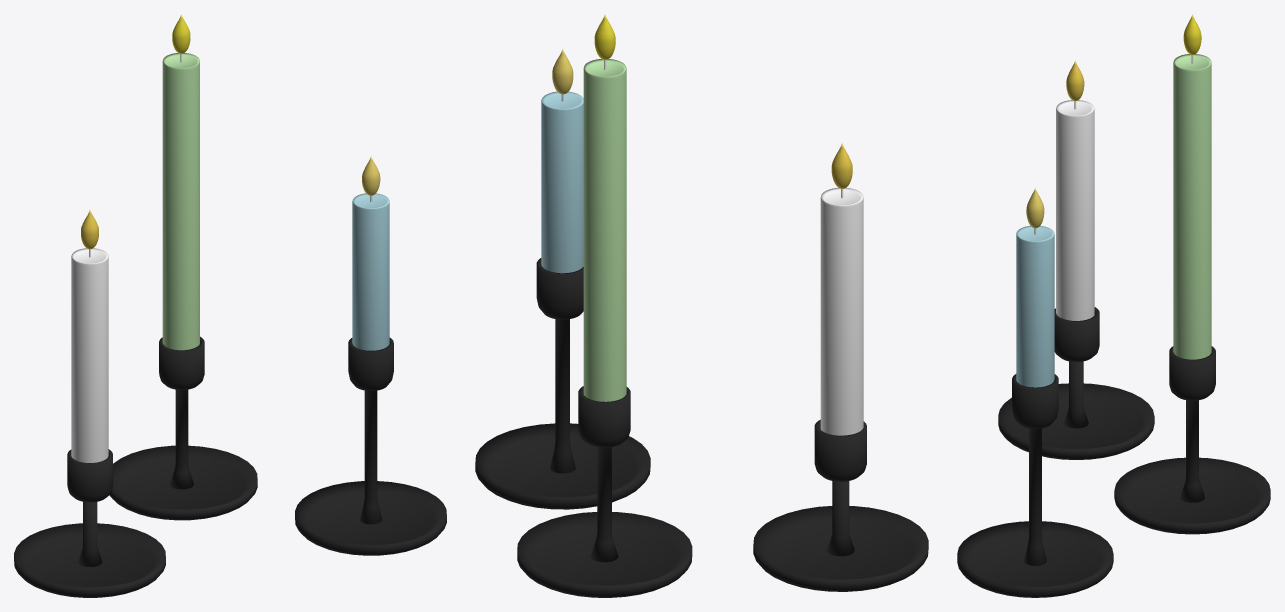
Rendered from candles.fbx.
3 renders of one model, left to right at view 1: azimuth 30°, elevation 25°; view 2: azimuth 150°, elevation 25°; view 3: azimuth 270°, elevation 25°, orthographic. The views are drawn at different scales.
Visible parts, largest first — view 1: kynttilänjalka_pitkä, kynttilänjalka_keskikoko, kynttilä_pitkä, kynttilänjalka_lyhyt, kynttilä_keskikoko, kynttilä_lyhyt; view 2: kynttilänjalka_keskikoko, kynttilä_pitkä, kynttilänjalka_lyhyt, kynttilänjalka_pitkä, kynttilä_keskikoko, kynttilä_lyhyt; view 3: kynttilänjalka_pitkä, kynttilänjalka_keskikoko, kynttilä_pitkä, kynttilänjalka_lyhyt, kynttilä_keskikoko, kynttilä_lyhyt.
Part boxes in pixels (bbox=[...]): kynttilänjalka_pitkä: bbox=[295, 337, 446, 555]; kynttilänjalka_keskikoko: bbox=[109, 336, 257, 520]; kynttilä_pitkä: bbox=[162, 14, 199, 350]; kynttilänjalka_lyhyt: bbox=[14, 449, 165, 597]; kynttilä_keskikoko: bbox=[71, 210, 108, 462]; kynttilä_lyhyt: bbox=[352, 156, 389, 350]; kynttilänjalka_keskikoko: bbox=[517, 386, 692, 597]; kynttilä_pitkä: bbox=[583, 14, 626, 401]; kynttilänjalka_lyhyt: bbox=[753, 419, 928, 591]; kynttilänjalka_pitkä: bbox=[475, 258, 650, 509]; kynttilä_keskikoko: bbox=[820, 143, 863, 435]; kynttilä_lyhyt: bbox=[541, 49, 583, 273]; kynttilänjalka_pitkä: bbox=[957, 374, 1113, 597]; kynttilänjalka_keskikoko: bbox=[1114, 346, 1270, 534]; kynttilä_pitkä: bbox=[1173, 14, 1211, 359]; kynttilänjalka_lyhyt: bbox=[998, 307, 1154, 459]; kynttilä_keskikoko: bbox=[1056, 60, 1094, 320]; kynttilä_lyhyt: bbox=[1016, 188, 1054, 387].
Bounding box in the file's own units: 20.29 × 24.1 × 13.66.
